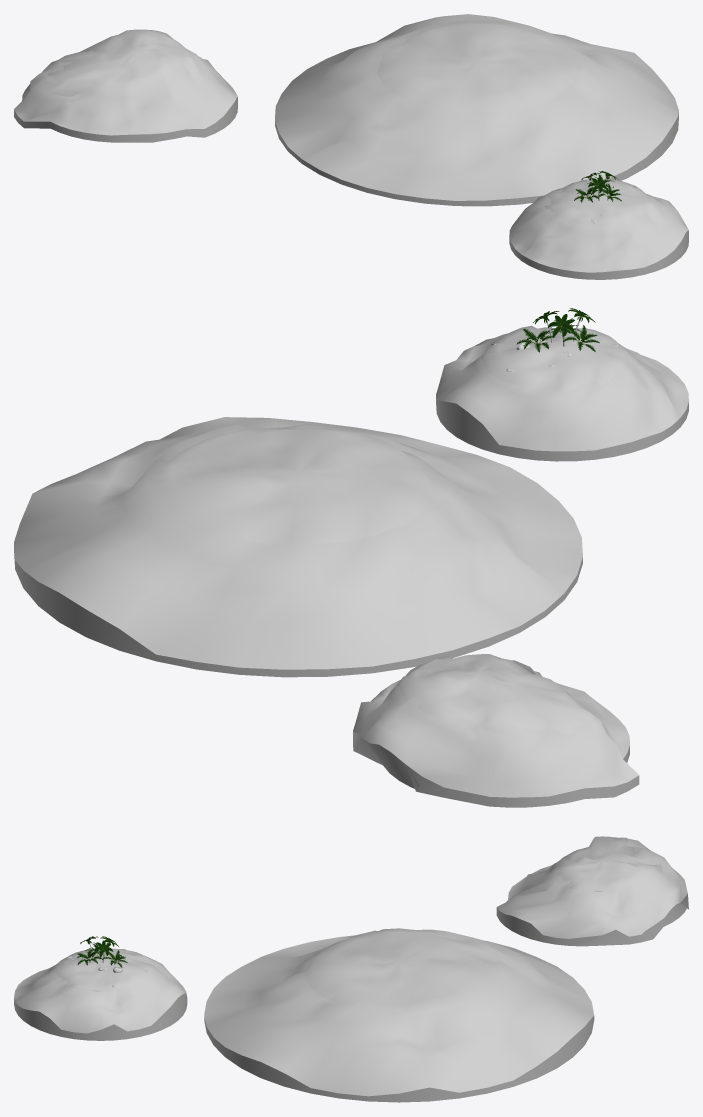
Rendered from Island Group.fbx.
3 renders of one model, top to bottom at view 1: azimuth 30°, elevation 25°; view 2: azimuth 150°, elevation 25°; view 3: azimuth 270°, elevation 25°, orthographic. The views are drawn at different scales.
Visible parts, largest first — view 1: polySurface165, polySurface164, polySurface195, polySurface10; view 2: polySurface165, polySurface164, polySurface195, polySurface10; view 3: polySurface165, polySurface164, polySurface195, polySurface10.
Boxes of the visible parts, left/top/right/bottom form: polySurface165: left=275, top=14, right=678, bottom=206; polySurface164: left=14, top=29, right=237, bottom=142; polySurface195: left=509, top=179, right=688, bottom=279; polySurface10: left=544, top=179, right=654, bottom=225; polySurface165: left=14, top=417, right=582, bottom=677; polySurface164: left=353, top=654, right=639, bottom=807; polySurface195: left=436, top=325, right=688, bottom=461; polySurface10: left=481, top=325, right=628, bottom=391; polySurface165: left=204, top=928, right=594, bottom=1102; polySurface164: left=496, top=836, right=688, bottom=946; polySurface195: left=14, top=942, right=187, bottom=1040; polySurface10: left=55, top=948, right=156, bottom=991.
Size of the model in its own units: 152 by 18.99 by 177.
